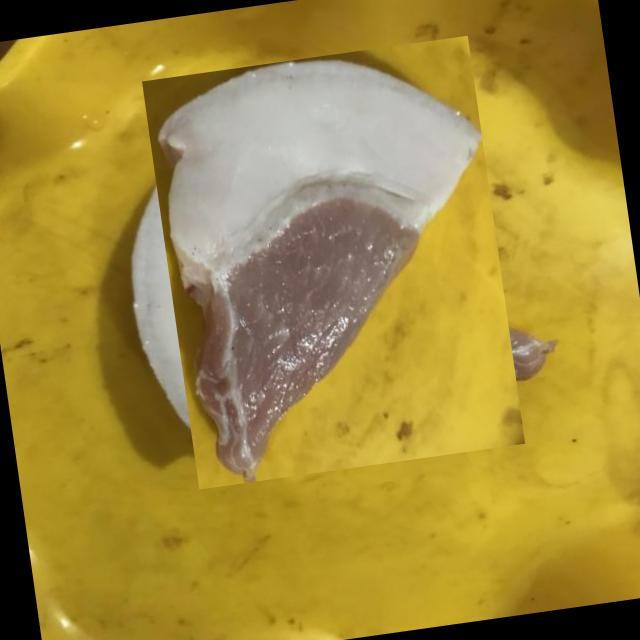chicken: (124, 52, 543, 472)
